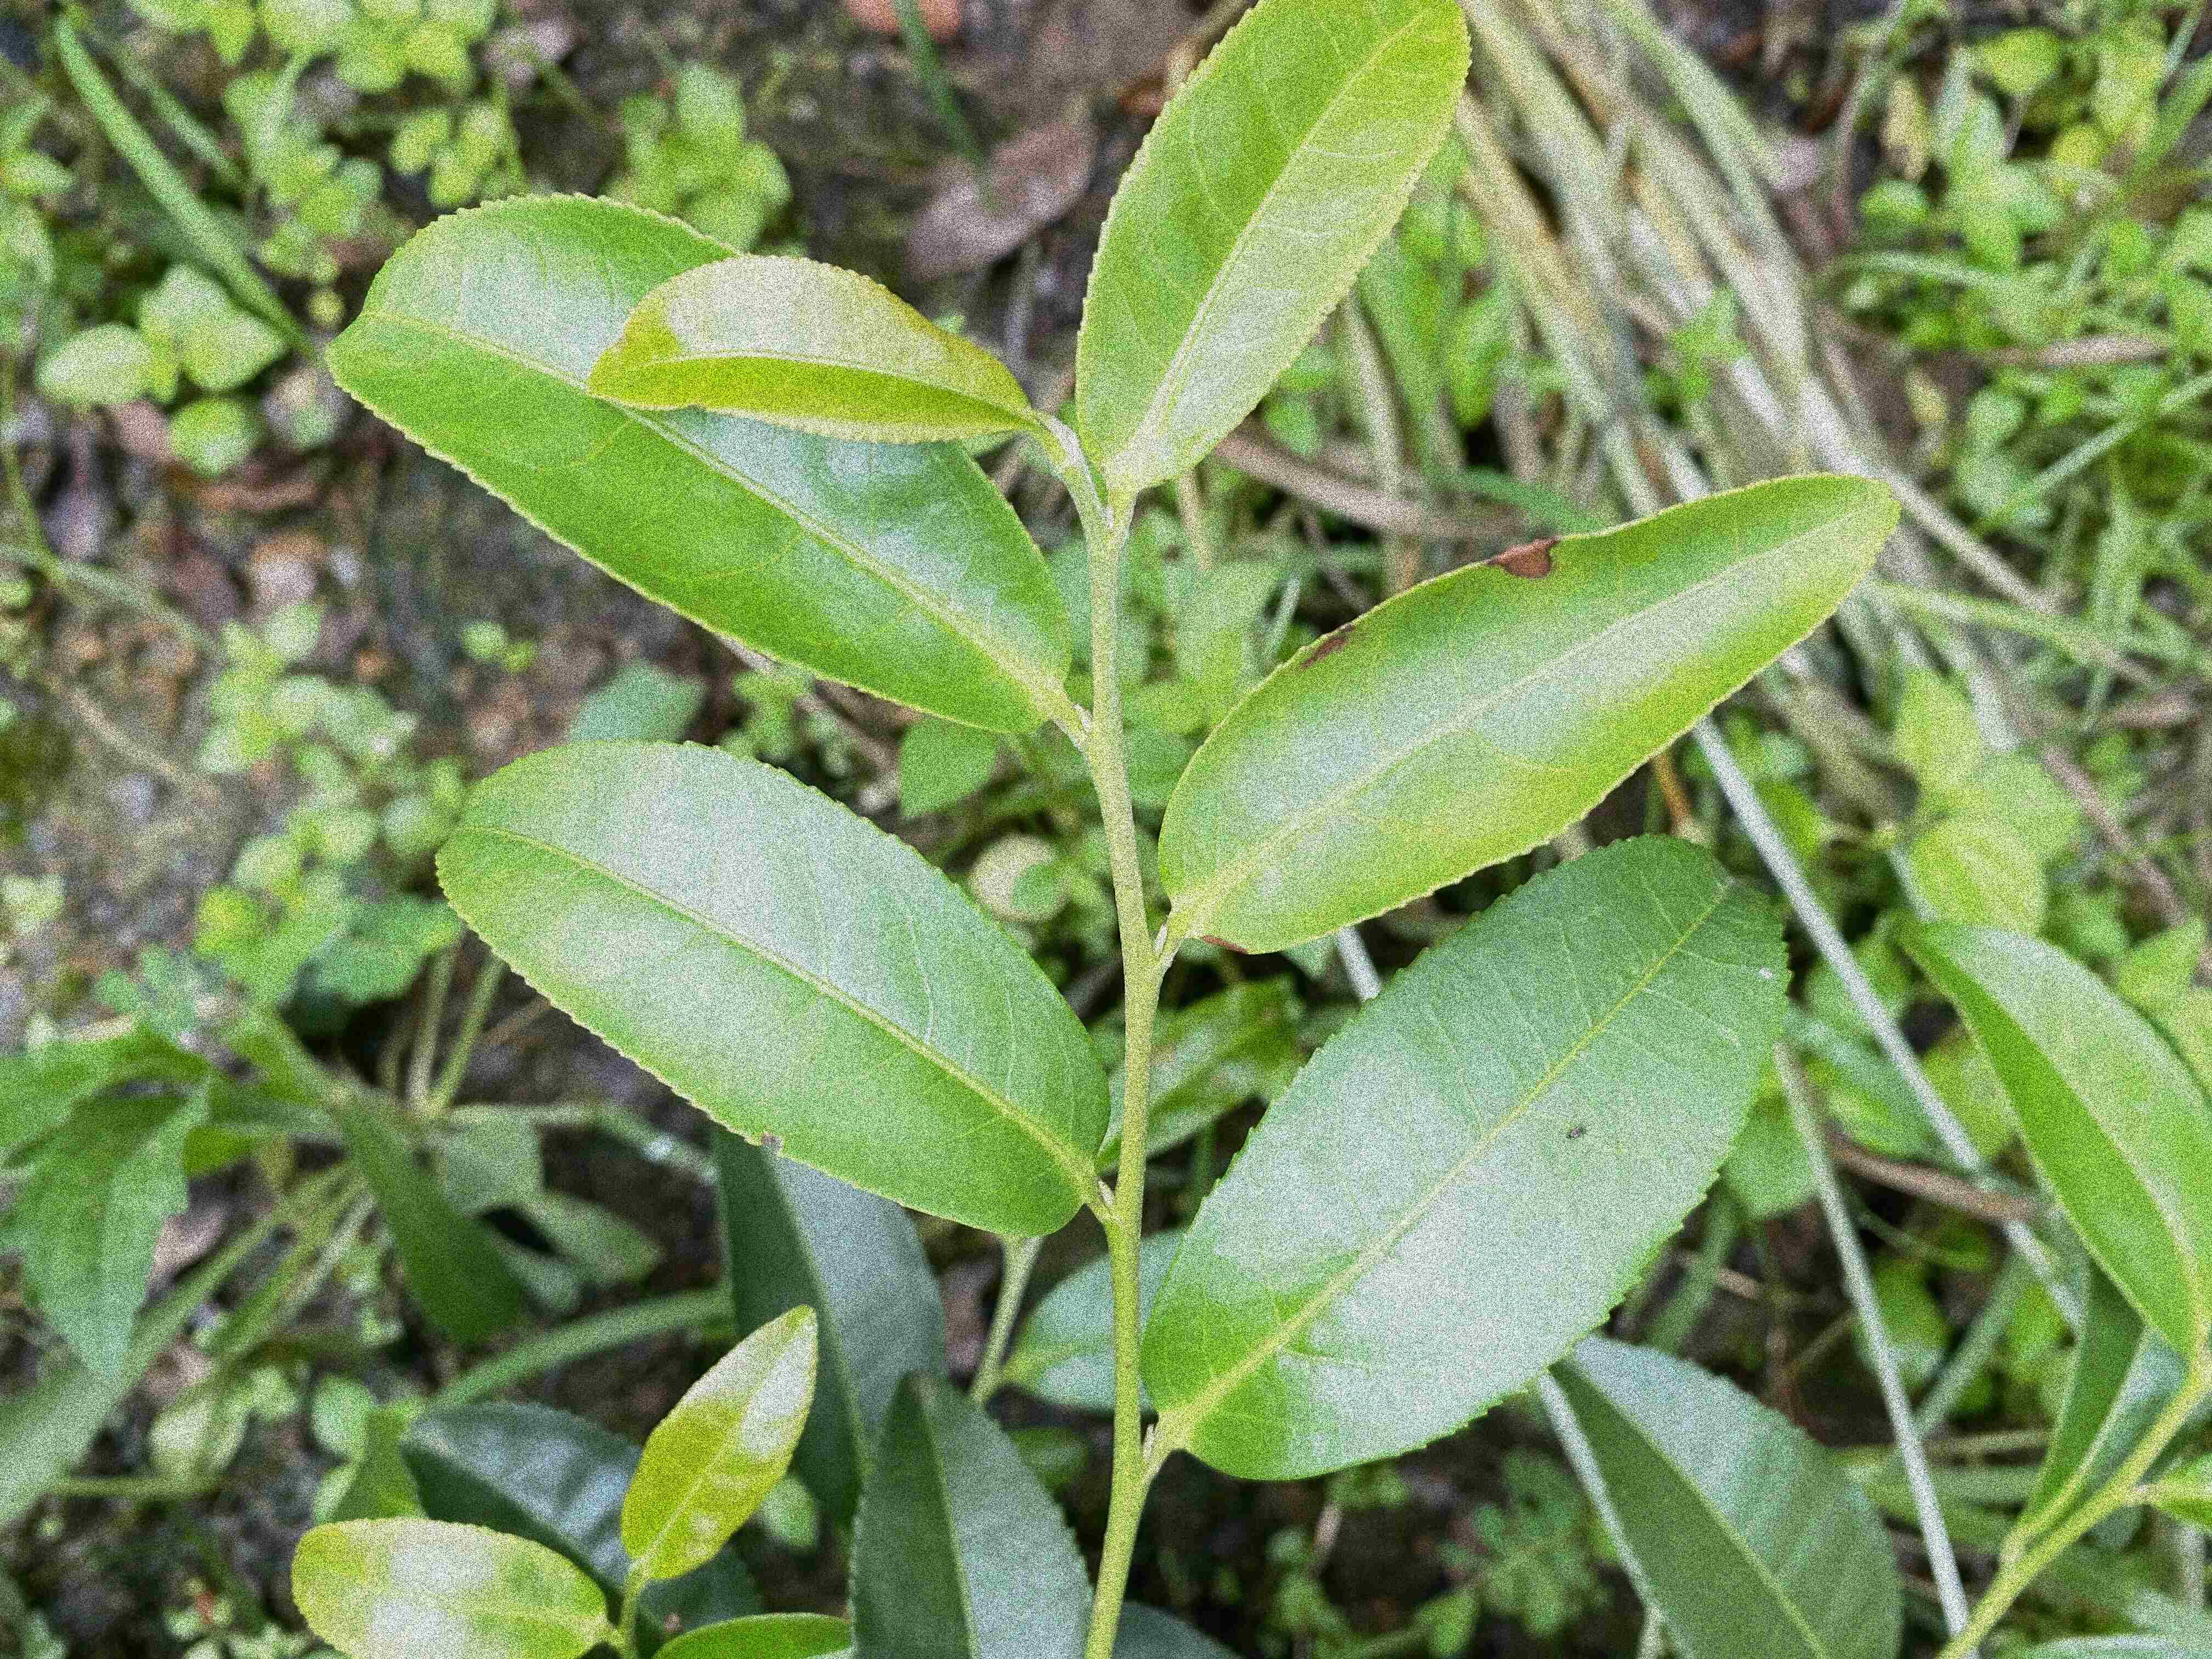healthy: (1141, 830, 1796, 1485), (319, 188, 1071, 735), (430, 741, 1113, 1239), (1076, 5, 1472, 484), (1898, 915, 2207, 1361), (615, 1307, 822, 1584), (287, 1516, 603, 1656)
tanju_low: (1155, 474, 1904, 958), (587, 251, 1045, 446)
